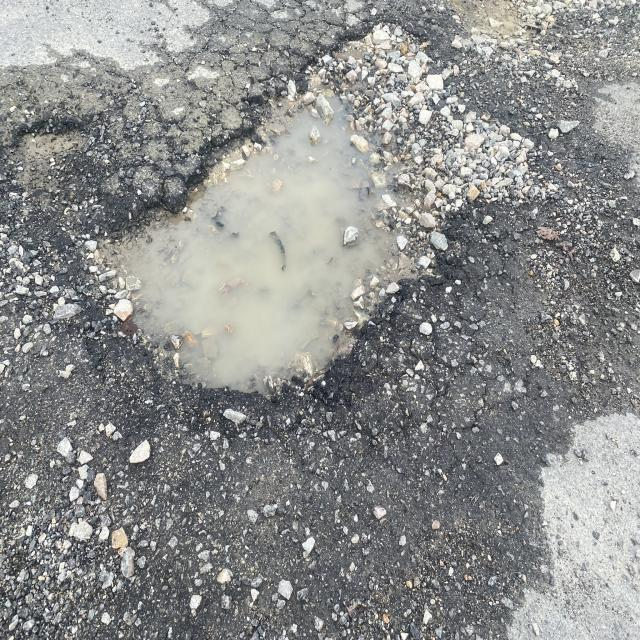Pothole: (119, 27, 513, 414), (4, 81, 108, 221)
